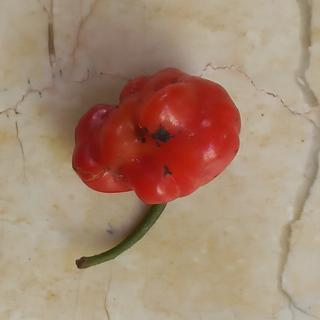Defect: (148, 120, 175, 150), (130, 121, 151, 149)
